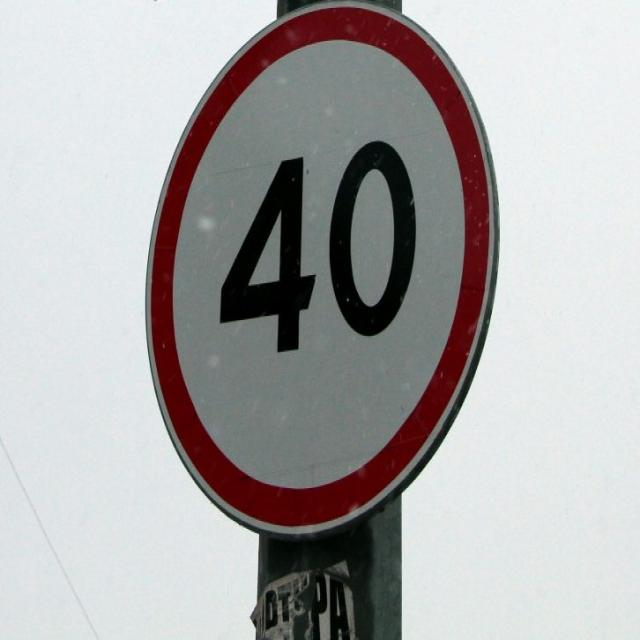speed limit 40: (143, 1, 502, 546)
